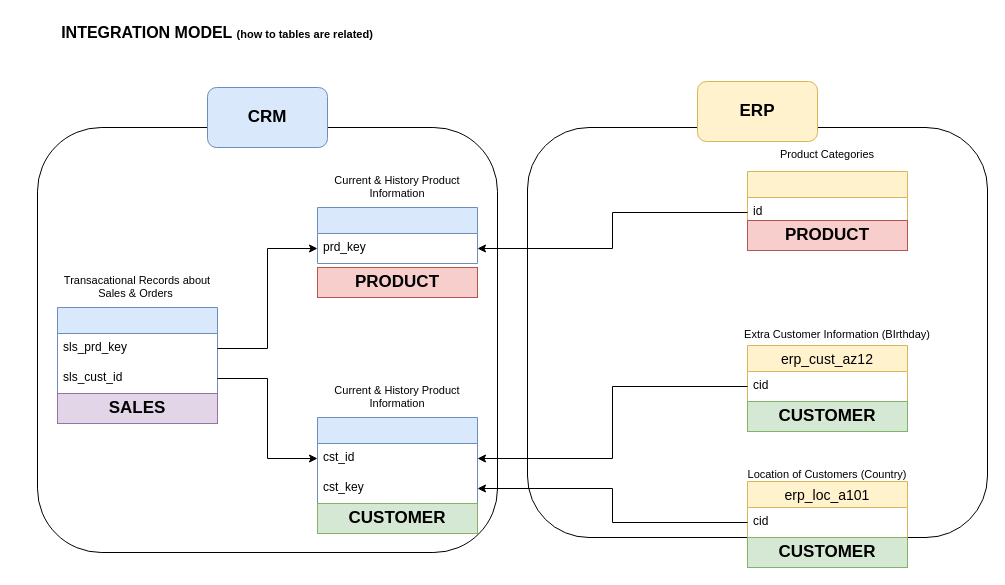
Image size: 1005x585. Some labels were removed from this diagram. Here are the shapes that lost their labels. From the top down, the box of each, then its label:
(746, 170, 908, 228): erp_px_cat_g1v2
(316, 206, 478, 264): crm_prd_info
(56, 306, 218, 394): crm_sales_details
(316, 416, 478, 504): crm_cust_info
